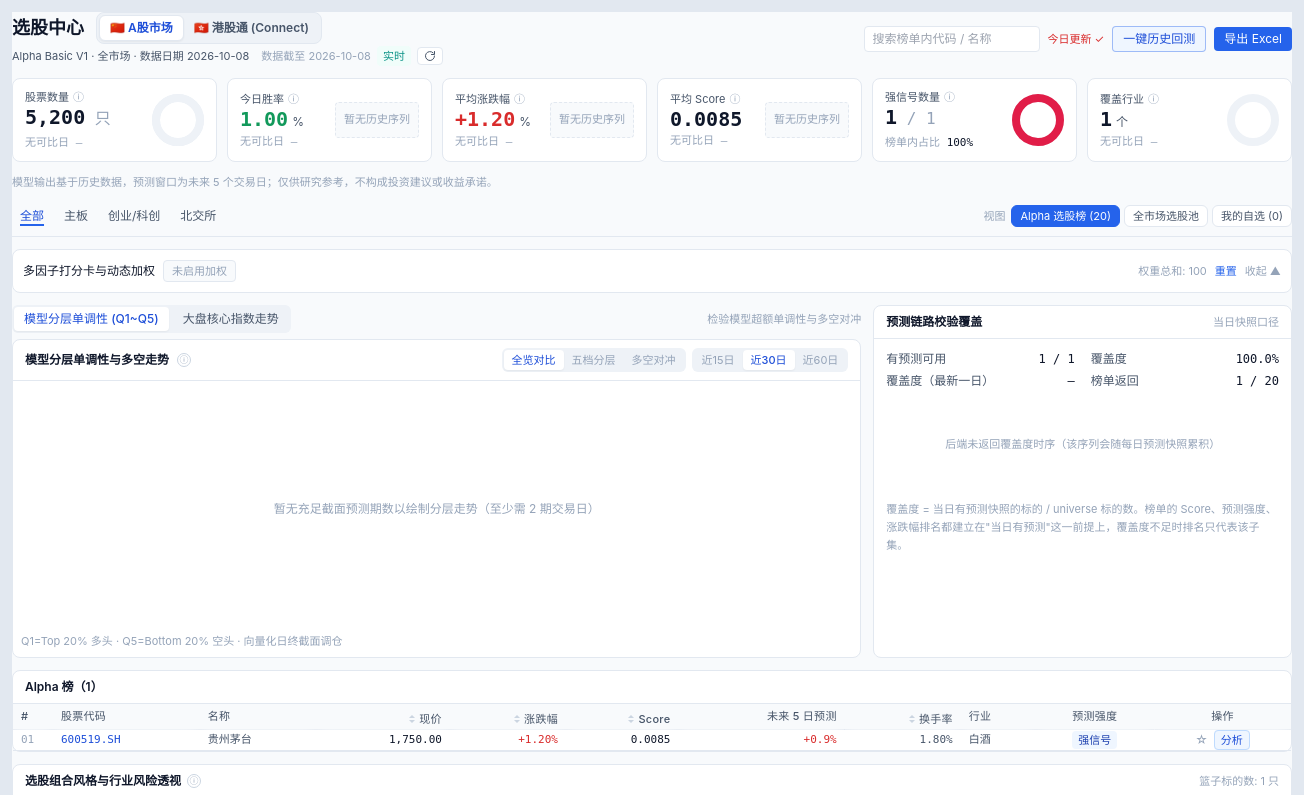
Test: Screener Market Scope Linkage › renders top market scope toggle and switches between A-share and HK Southbound
Expected: the button "🇨🇳 A股市场" is shown, [99,15,184,41]
Expected: the button "主板" is shown, [56,204,96,228]
Note: Click to switch to HK Southbound
Click the button "🇭🇰 港股通 (Connect)". click: (251, 28)
box: [184,16,319,40]
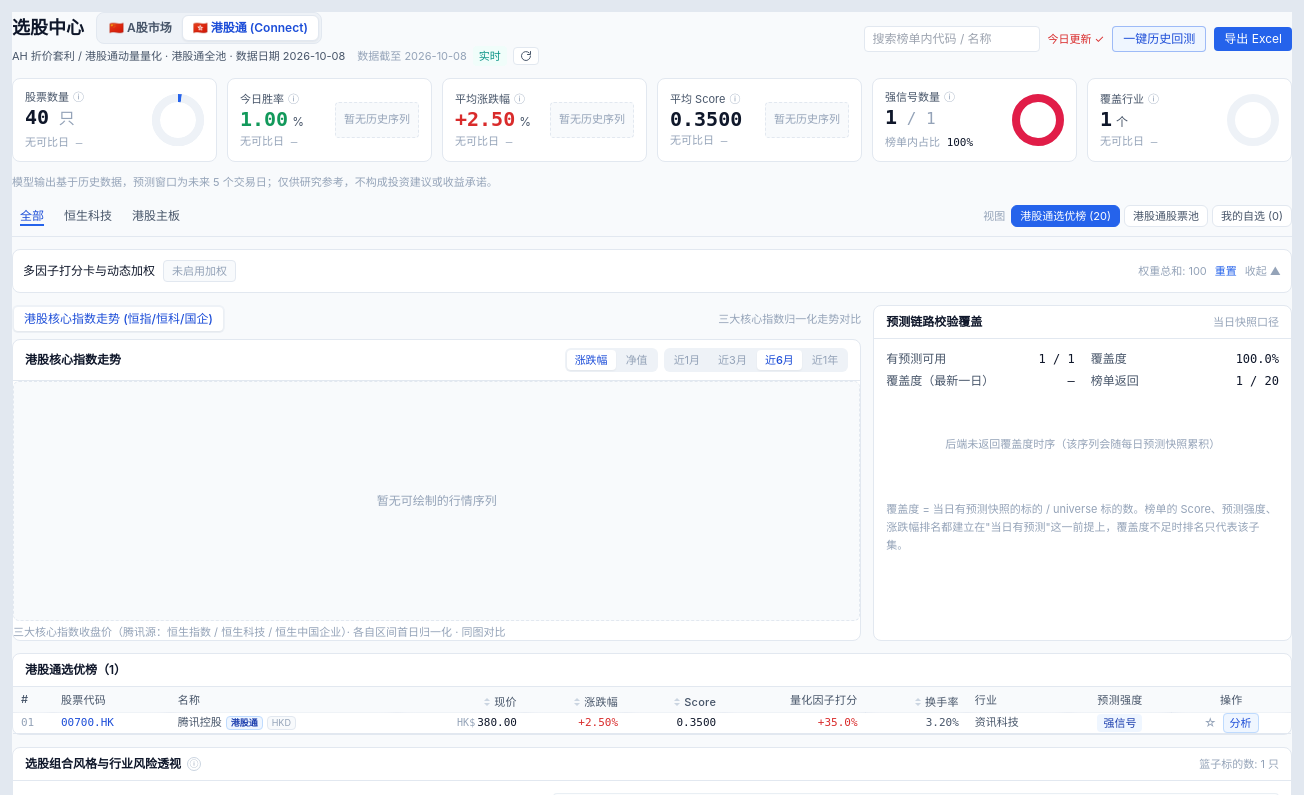
Expected: the button "恒生科技" is shown, [56,204,120,228]
Expected: the button "港股主板" is shown, [124,204,188,228]
Expected: the text "AH 折价套利 / 港股通动量量化 · 港股通全池 · 数据日期 2026-10-08" is shown, [12,48,345,64]
